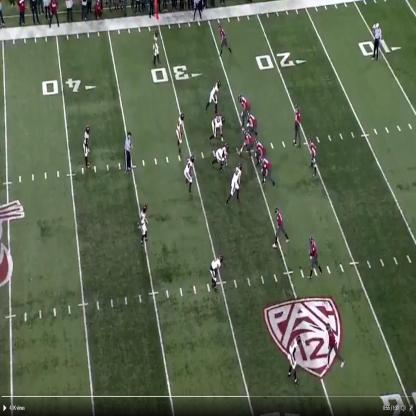CENTER: (240, 129, 252, 154)
DB: (288, 335, 300, 382), (140, 206, 150, 245), (210, 255, 223, 284), (372, 23, 382, 58), (84, 128, 90, 168), (152, 34, 160, 60)
LB: (185, 158, 194, 190), (178, 117, 185, 154)
QB: (293, 106, 301, 144)
SKILL: (327, 321, 340, 366), (274, 206, 288, 246), (309, 240, 319, 277), (221, 26, 231, 52), (309, 138, 316, 166)
